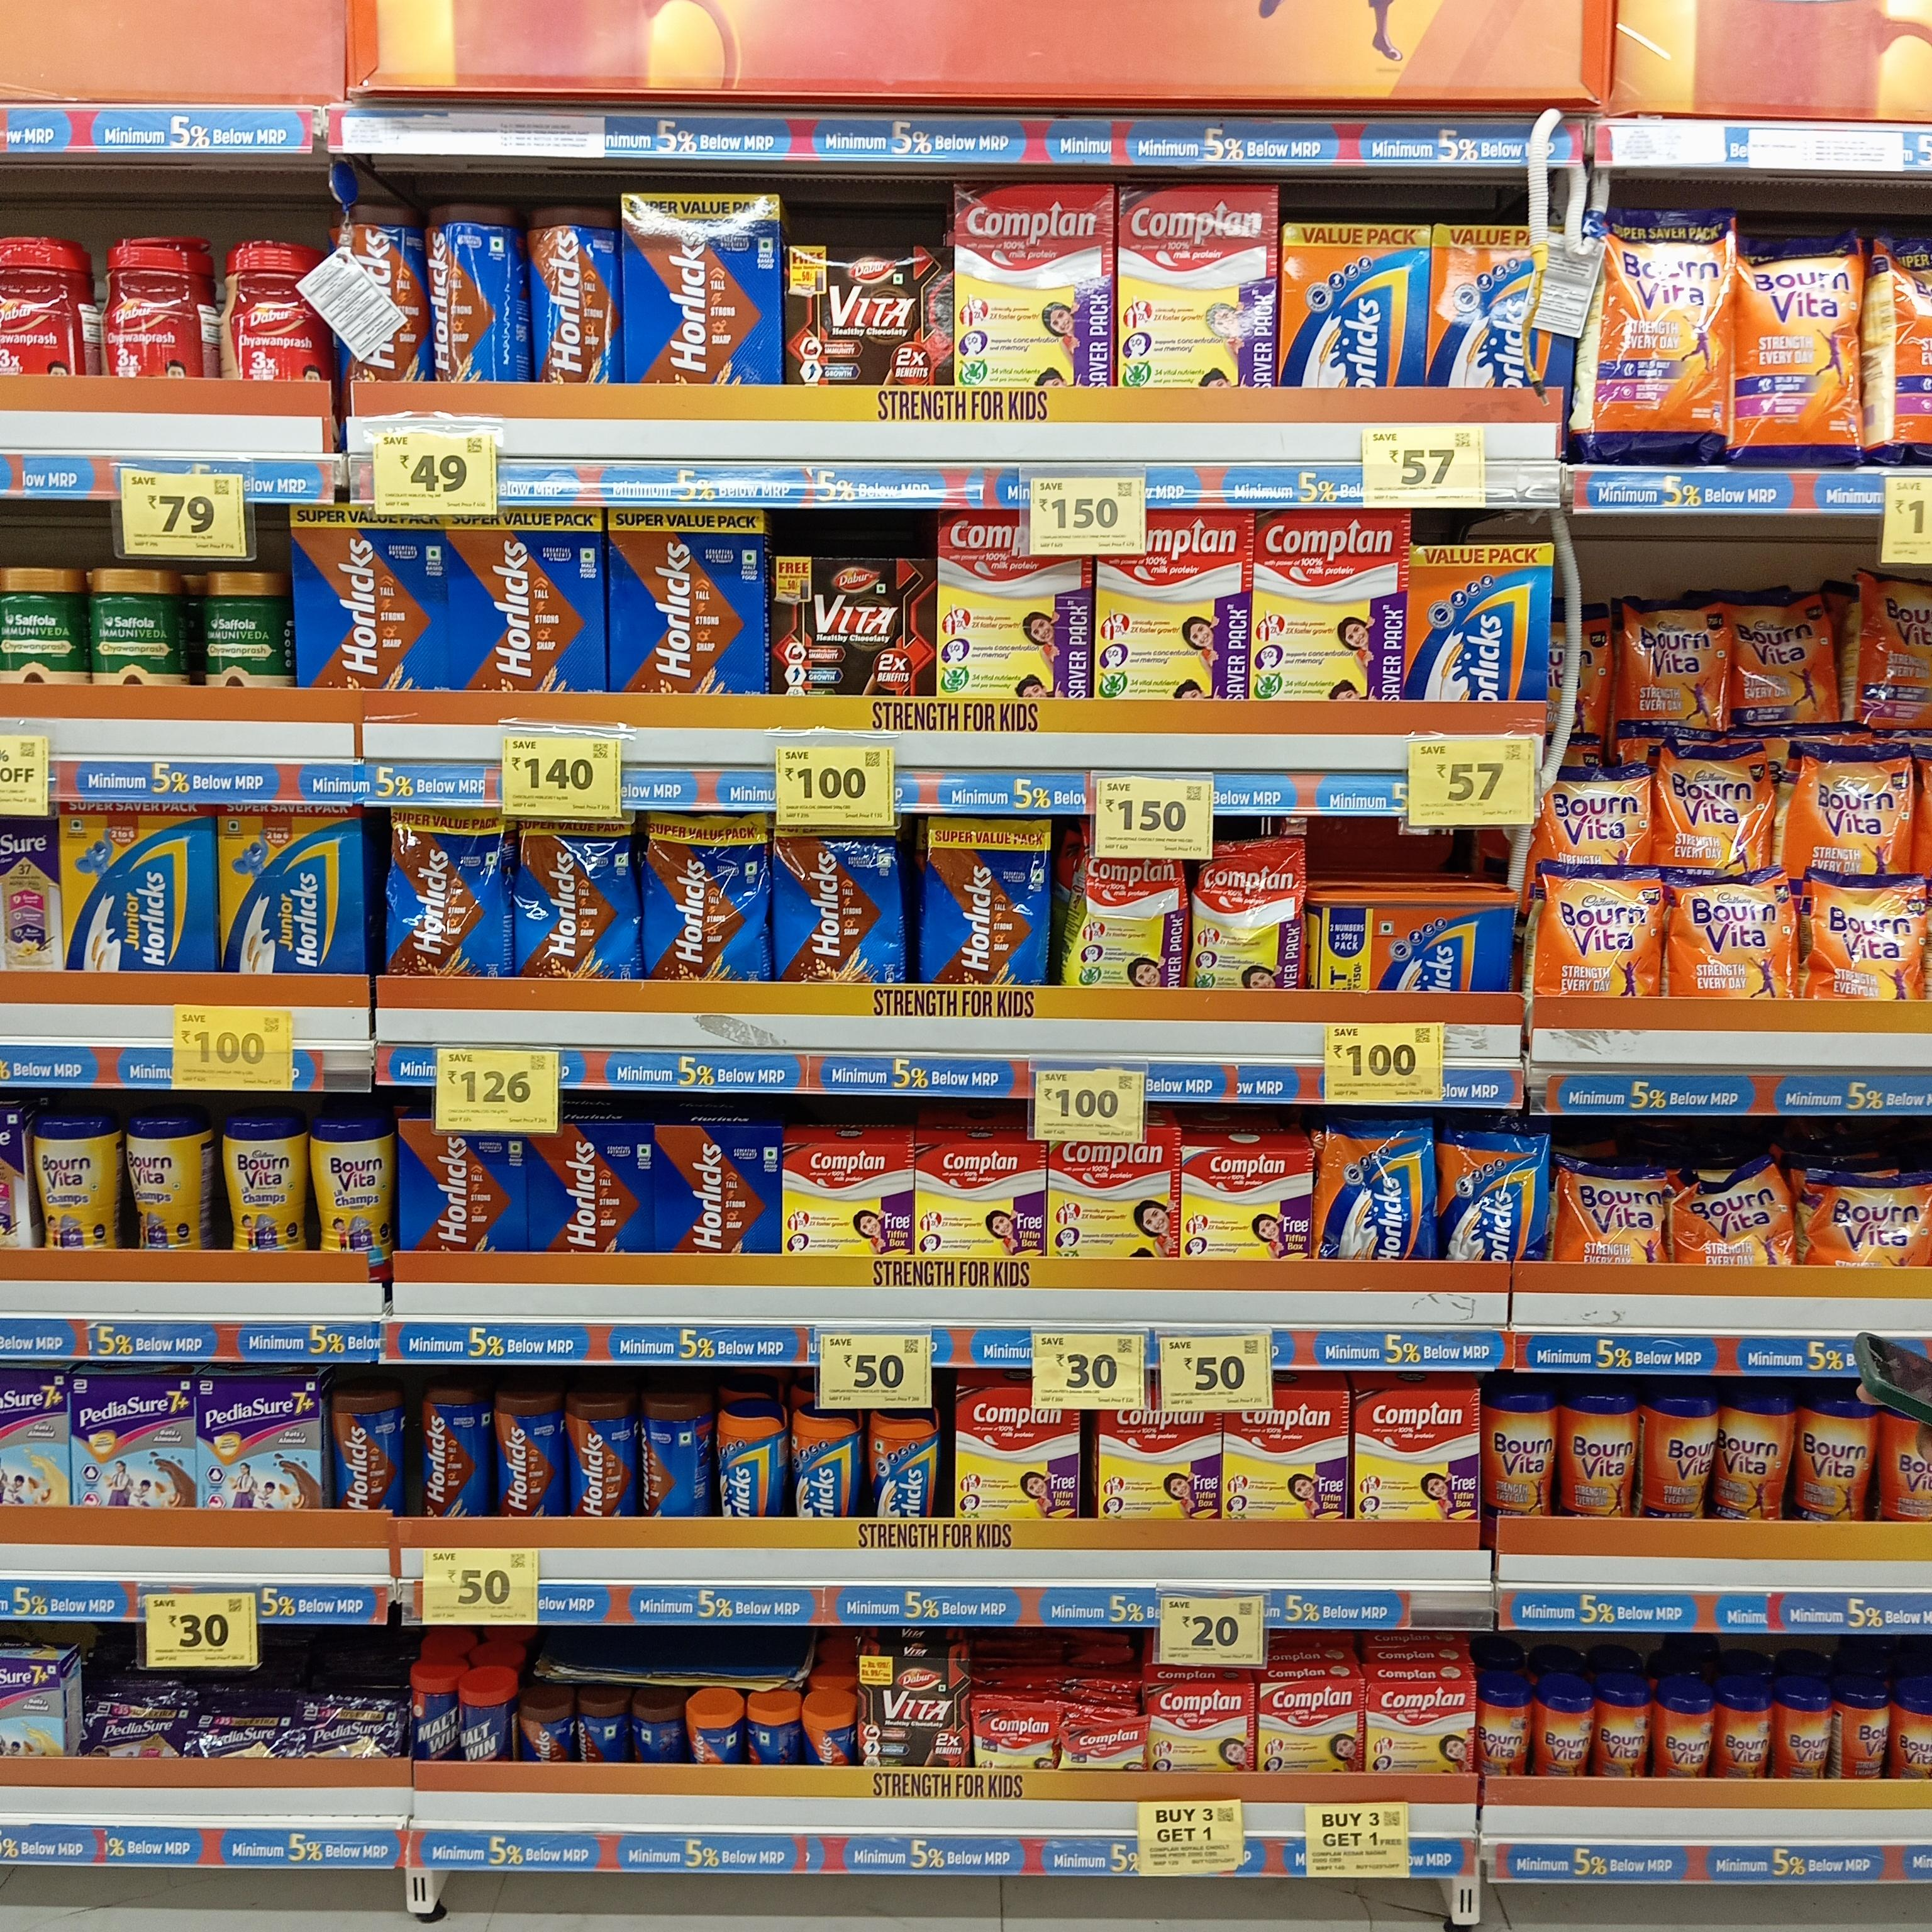BOURN_VITA_1_KG_POUCH: (1594, 209, 1729, 456), (1737, 232, 1867, 469)
BOURN_VITA_200_G_JAR: (1658, 1688, 1713, 1782), (1477, 1684, 1530, 1780), (1778, 1688, 1833, 1778), (1541, 1686, 1592, 1782), (1598, 1681, 1649, 1775), (1716, 1693, 1767, 1778), (1844, 1691, 1891, 1782)
BOURN_VITA_500_G_JAR: (1484, 1387, 1555, 1525), (1716, 1389, 1787, 1527), (1796, 1396, 1870, 1525), (1562, 1391, 1637, 1518), (1649, 1382, 1711, 1522)
BOURN_VITA_500_G_POUCH: (1559, 1162, 1668, 1265), (1690, 1177, 1801, 1269), (1826, 1175, 1932, 1269)
BOURN_VITA_750_G_POUCH: (1539, 863, 1660, 994), (1810, 874, 1927, 1000), (1660, 740, 1764, 872), (1736, 591, 1838, 725), (1801, 750, 1913, 872), (1677, 883, 1794, 998), (1628, 600, 1727, 729), (1546, 766, 1647, 863)
BOURN_VITA_CHAMPS_500_G_JAR: (32, 1106, 108, 1253), (310, 1120, 387, 1263), (225, 1122, 301, 1265), (122, 1111, 198, 1251)
COMPLAN_CHOCOLATE_1_KG_PACK: (1118, 184, 1276, 387), (955, 179, 1111, 384), (938, 506, 1086, 701), (1258, 511, 1401, 699)
COMPLAN_CHOCOLATE_200_GMS_PACK: (1150, 1684, 1258, 1776)
COMPLAN_CHOCOLATE_500_GMS_PACK: (1352, 1391, 1479, 1520), (957, 1385, 1077, 1516), (778, 1138, 909, 1256), (915, 1141, 1044, 1254)
COMPLAN_CREAMY_CLASSIC_500_G_PACK: (1178, 1145, 1304, 1261)
COMPLAN_KESAR_BADAM_200_GMS_PACK: (1263, 1679, 1364, 1773)
COMPLAN_PISTA_BADAM_500_GMS_PACK: (1046, 1138, 1175, 1253)
COMPLAN_RC_POUCH_700_GMS_12: (1077, 851, 1189, 998), (1194, 846, 1297, 998)
HORLICK_CHOCOLATE_1_KG_JAR: (529, 203, 617, 380), (343, 205, 430, 379), (425, 196, 504, 380)
HORLICK_CHOCOLATE_1_KG_PACK: (626, 195, 777, 384), (449, 508, 603, 692), (610, 513, 763, 697), (294, 501, 442, 685)
HORLICK_CHOCOLATE_500_G_JAR: (419, 1385, 490, 1518), (331, 1391, 405, 1511), (568, 1396, 639, 1518), (499, 1394, 564, 1516), (640, 1396, 694, 1516)
HORLICK_CHOCOLATE_500_G_PACK: (533, 1125, 653, 1254), (660, 1125, 777, 1253), (403, 1131, 529, 1246)
HORLICK_CHOCOLATE_750_G_POUCH: (649, 810, 768, 987), (520, 814, 640, 985), (929, 824, 1053, 985), (393, 801, 506, 975), (777, 832, 906, 982)
HORLICK_CLASSIC_MALT_500_G_PACK: (1407, 540, 1543, 706), (1433, 225, 1562, 389), (1284, 228, 1421, 384), (717, 1410, 784, 1516), (872, 1417, 938, 1523), (798, 1410, 858, 1522)
HORLICK_CLASSIC_MALT_750_G_POUCH: (1322, 1120, 1435, 1263), (1438, 1125, 1534, 1263)
HORLICK_MALT_1_KG_CONTAINER: (1313, 883, 1513, 991)
PEDIASURE_7_PLUS_CHOCOLATE_400_G_PACK: (196, 1376, 318, 1516), (78, 1380, 188, 1511)
